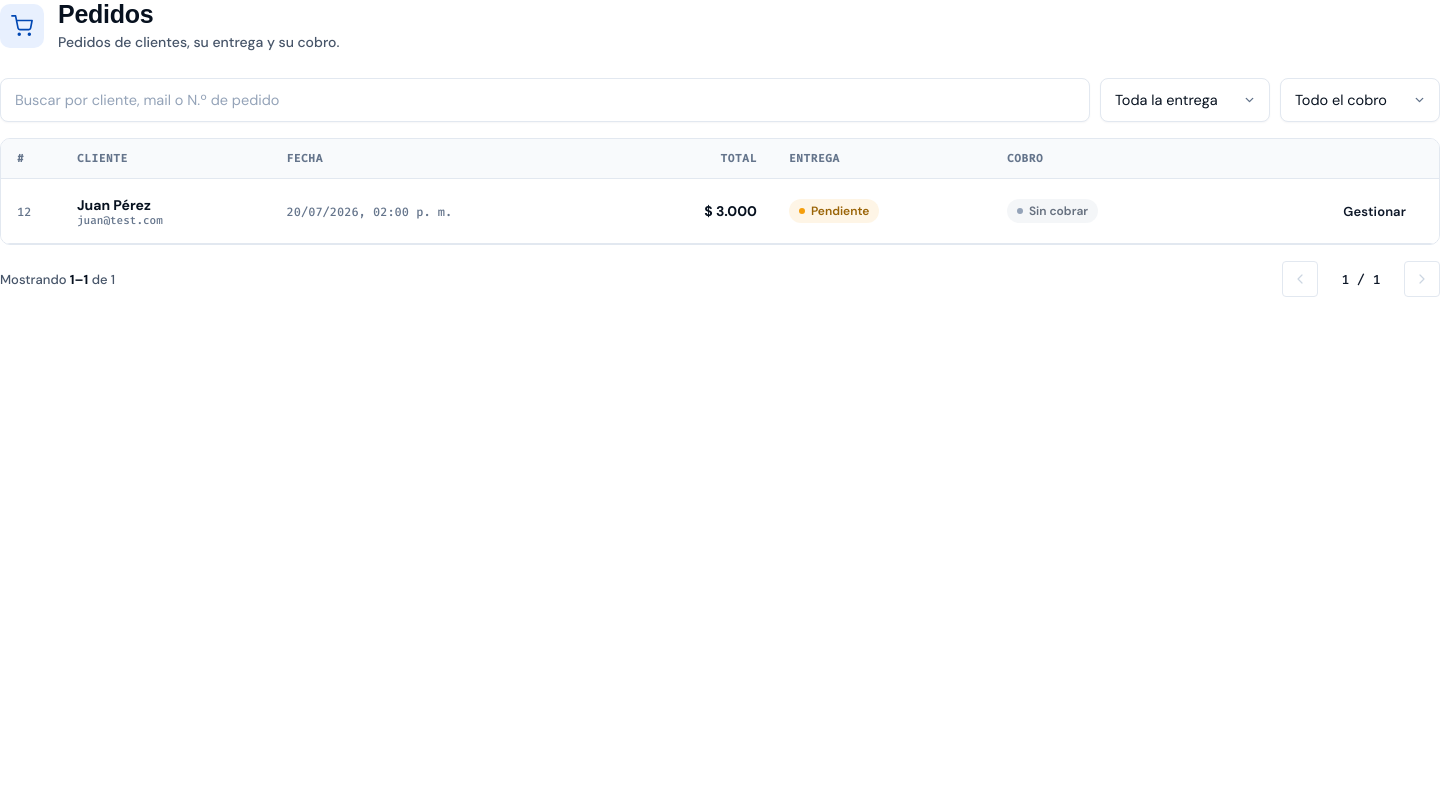
Scenario: AdminOrdersPage — ficha del pedido › muestra el error del backend al reactivar un pedido cancelado
This screenshot has width=1440, height=810.
Expected: the text "Juan Pérez" is shown, [77,196,151,214]
Click the button "Gestionar". click: (1375, 211)
box: [1326,192,1423,230]
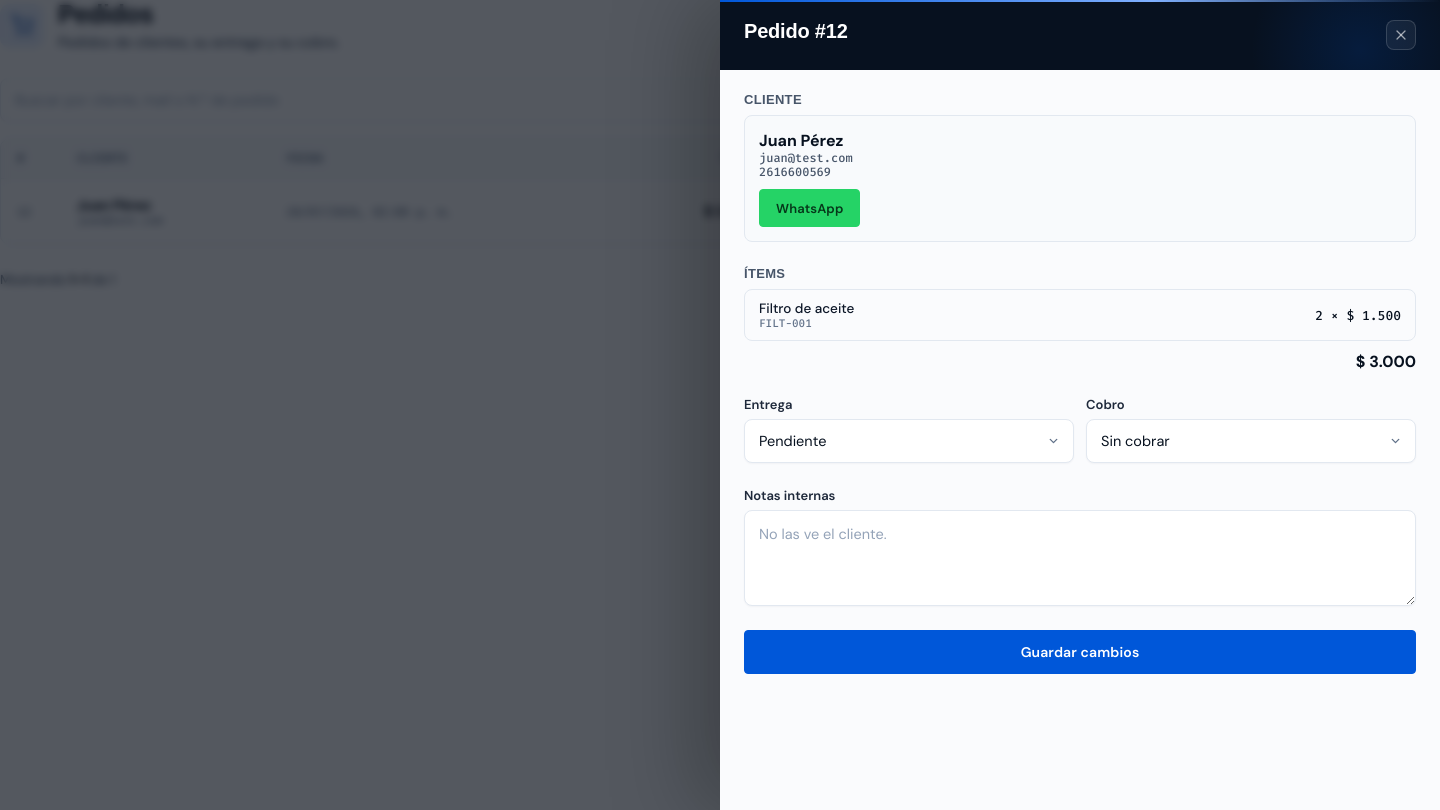
Select "Enviado" in the dropdown labelled "Entrega". click: (909, 441)
box: [744,419,1074,463]
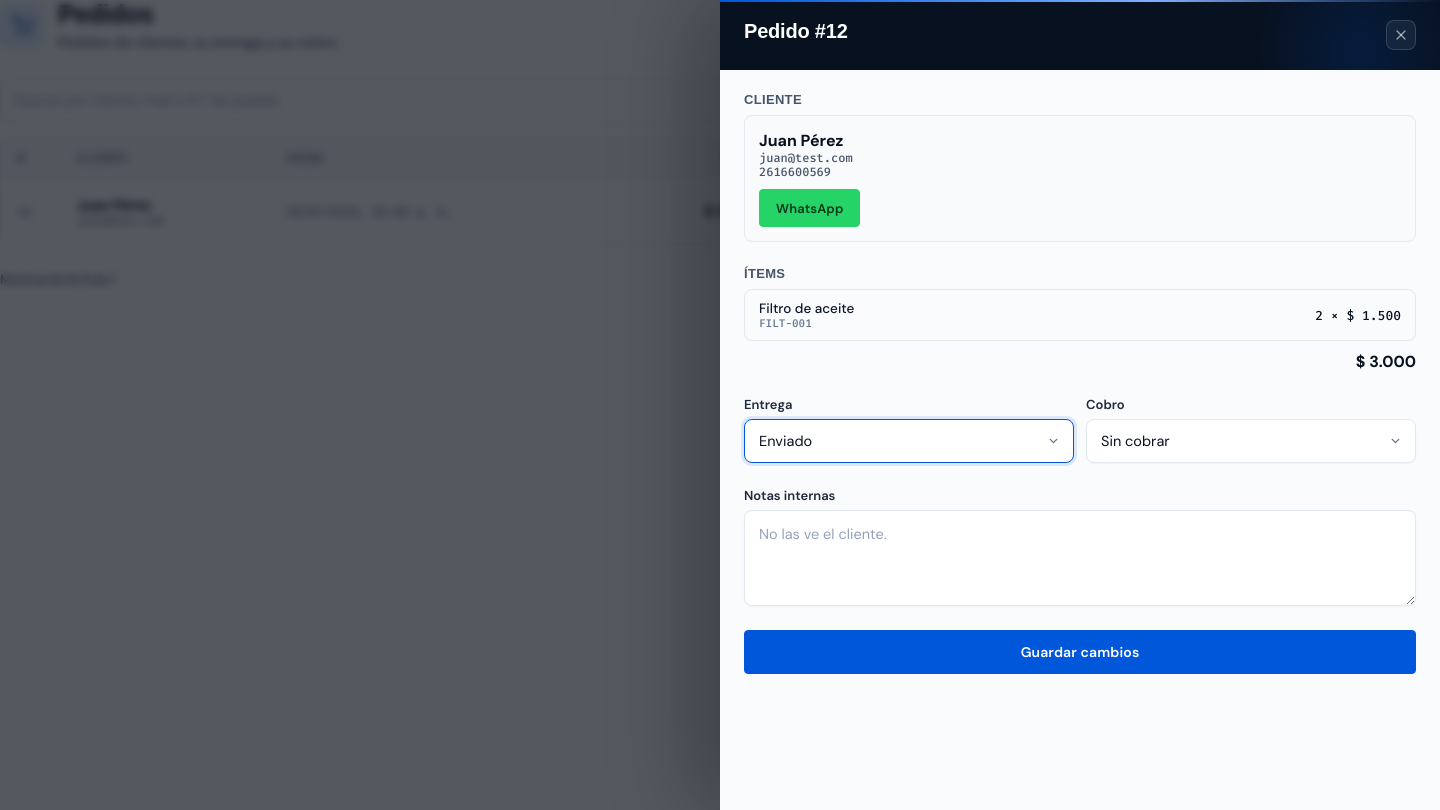
Click the button "Guardar cambios". click: (1080, 652)
box: [744,630,1416,674]
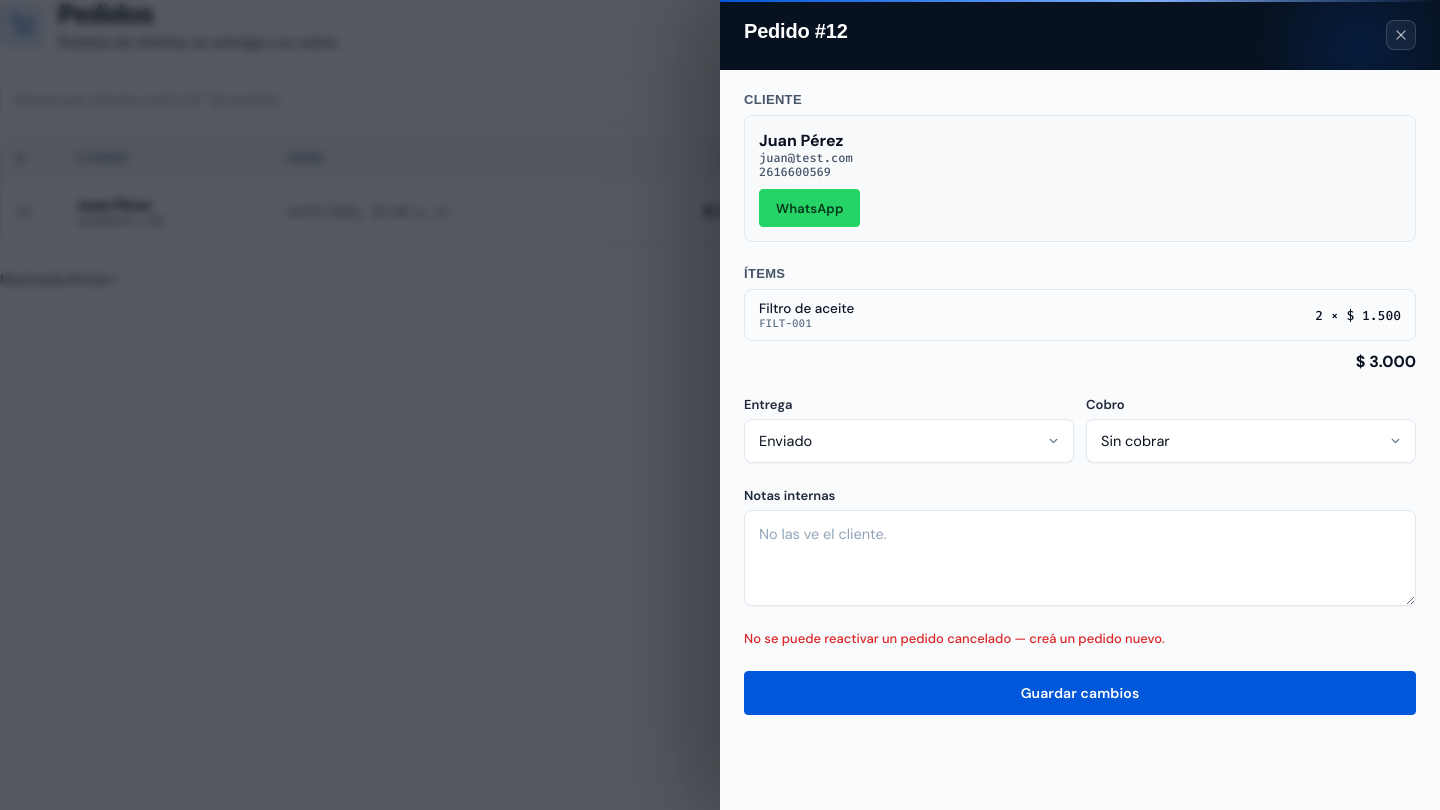
Result: the message shows "No se puede reactivar" at [744,630,1165,647]
